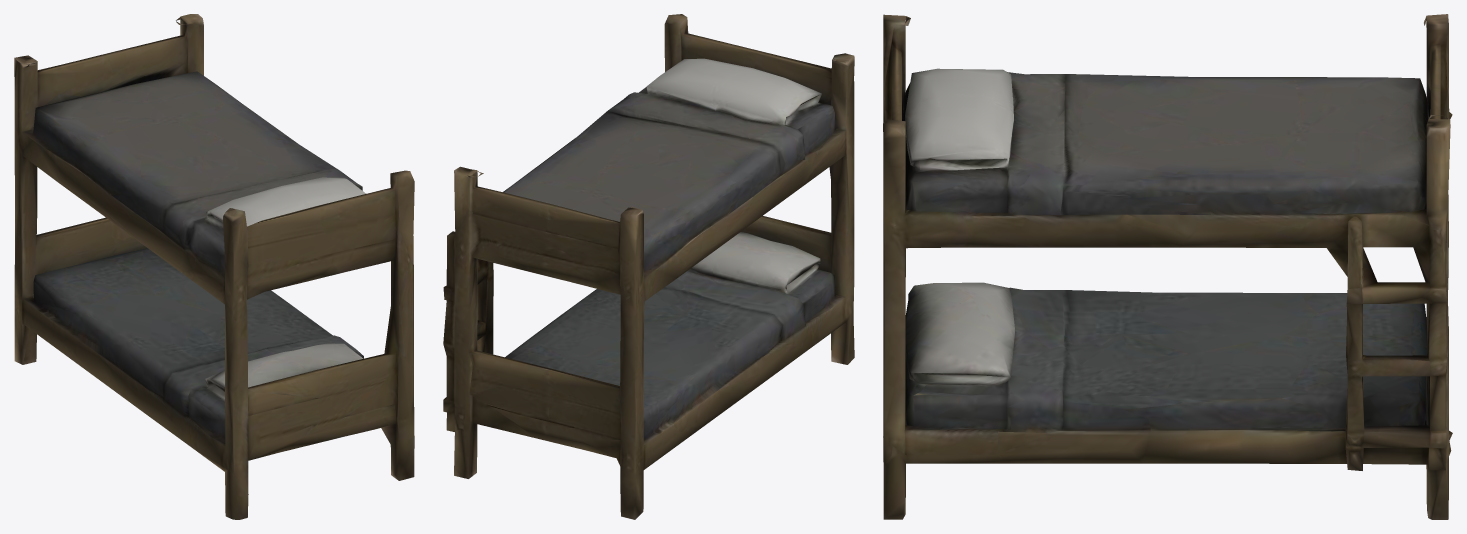
The model's file is prop_bunk.glb.
The picture shows the model from 3 angles, left to right: view 1: azimuth 30°, elevation 25°; view 2: azimuth 150°, elevation 25°; view 3: azimuth 270°, elevation 25°; orthographic projection. The views are drawn at different scales.
Visible parts, largest first — view 1: tripo_node_5e13038a-e831-4471-bd87-62fa4c23dd8d; view 2: tripo_node_5e13038a-e831-4471-bd87-62fa4c23dd8d; view 3: tripo_node_5e13038a-e831-4471-bd87-62fa4c23dd8d.
Boxes of the visible parts, x1,y1,x2,y2 form: tripo_node_5e13038a-e831-4471-bd87-62fa4c23dd8d: (14, 14, 414, 519); tripo_node_5e13038a-e831-4471-bd87-62fa4c23dd8d: (443, 14, 854, 519); tripo_node_5e13038a-e831-4471-bd87-62fa4c23dd8d: (883, 14, 1452, 519).
Size of the model in its own units: 0.5119 by 0.7553 by 0.994.
1 material, 1 textured.
